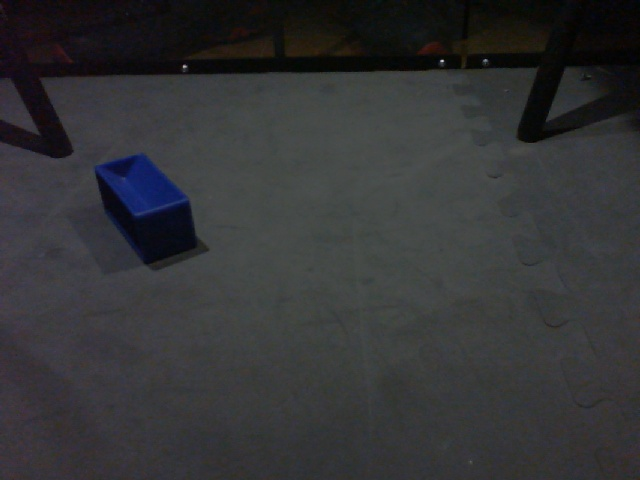BlueSample: (94, 149, 202, 269)
